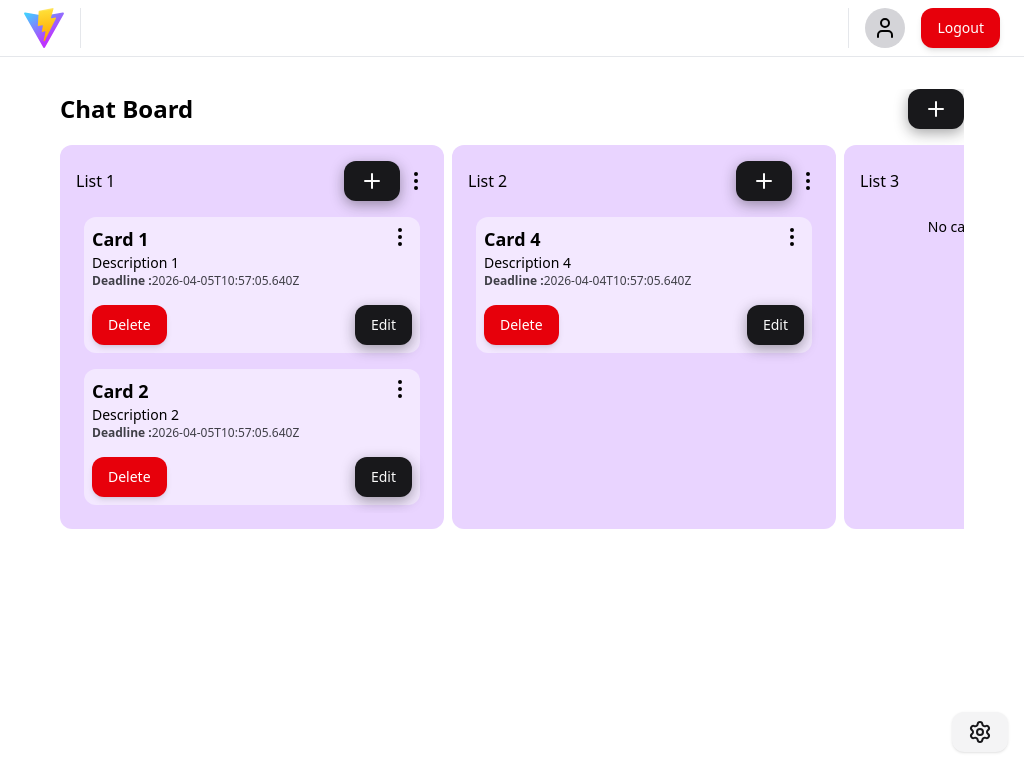
it: Editing the list and the card content › Should edit the card content
The width and height of the screenshot is (1024, 768).
Expected: the heading "Chat Board" is shown, top-left (60, 93), bottom-right (193, 125)
Expected: the element named "Board Content" shows "List 1", top-left (76, 170), bottom-right (115, 192)
Click the button with aria-label "edit-card" at point(383, 325), box top-left (355, 305), bottom-right (412, 345)
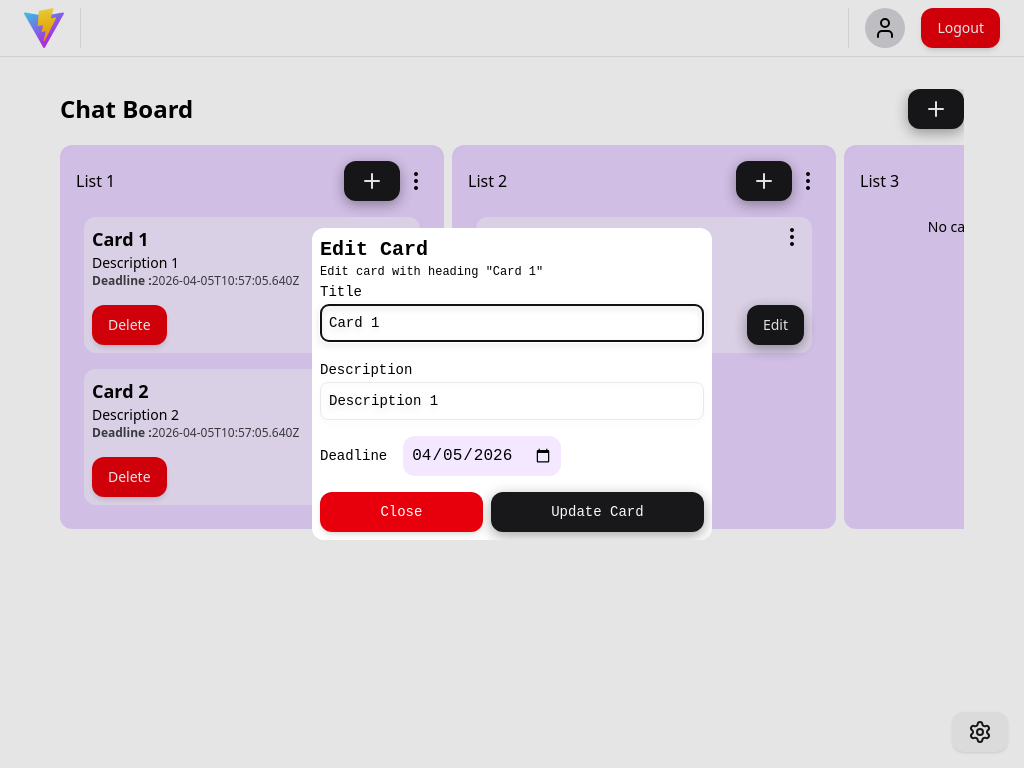
Replace the text in the field labelled "Title" with "Updated Card" at point(512, 323), box top-left (320, 304), bottom-right (704, 342)
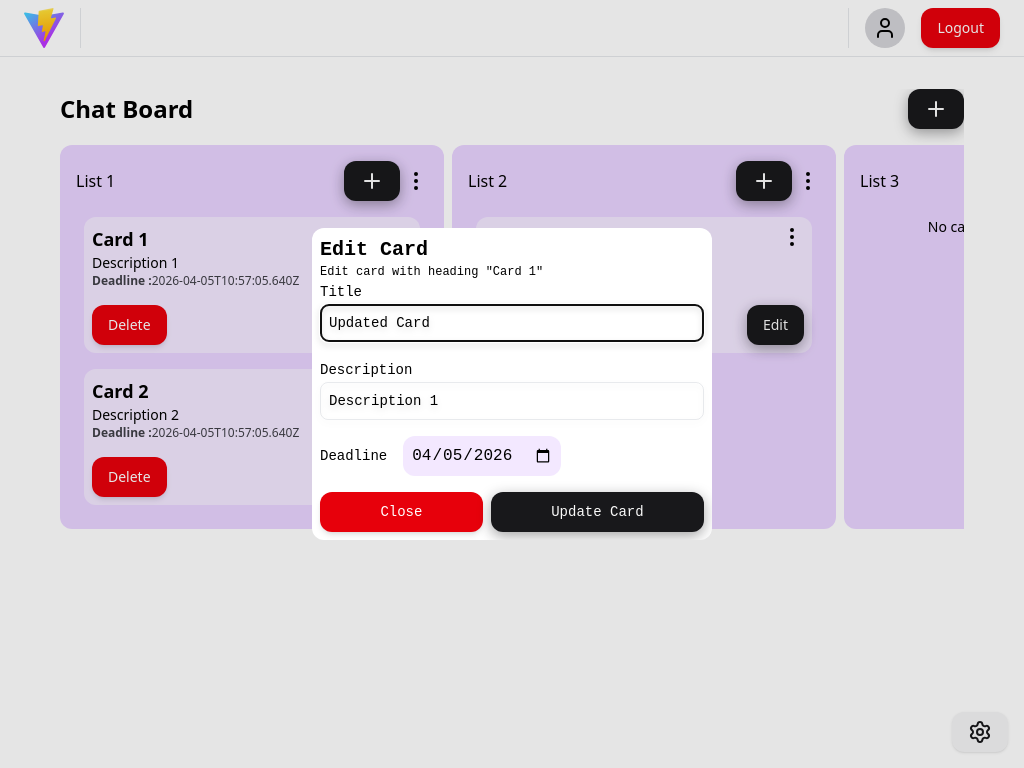
Click the button with aria-label "form-operation-button" at point(597, 512), box top-left (491, 492), bottom-right (704, 532)
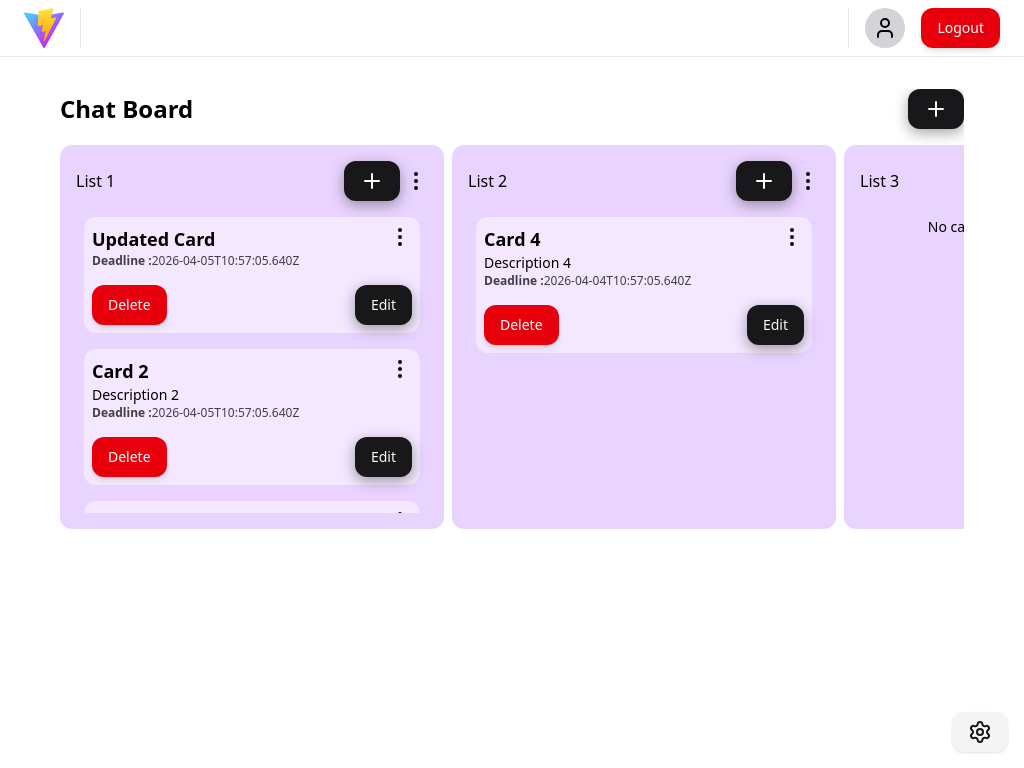
Result: the number of elements named "task-content" is 3
Result: the heading "Updated Card" is shown at top-left (92, 227), bottom-right (215, 251)
